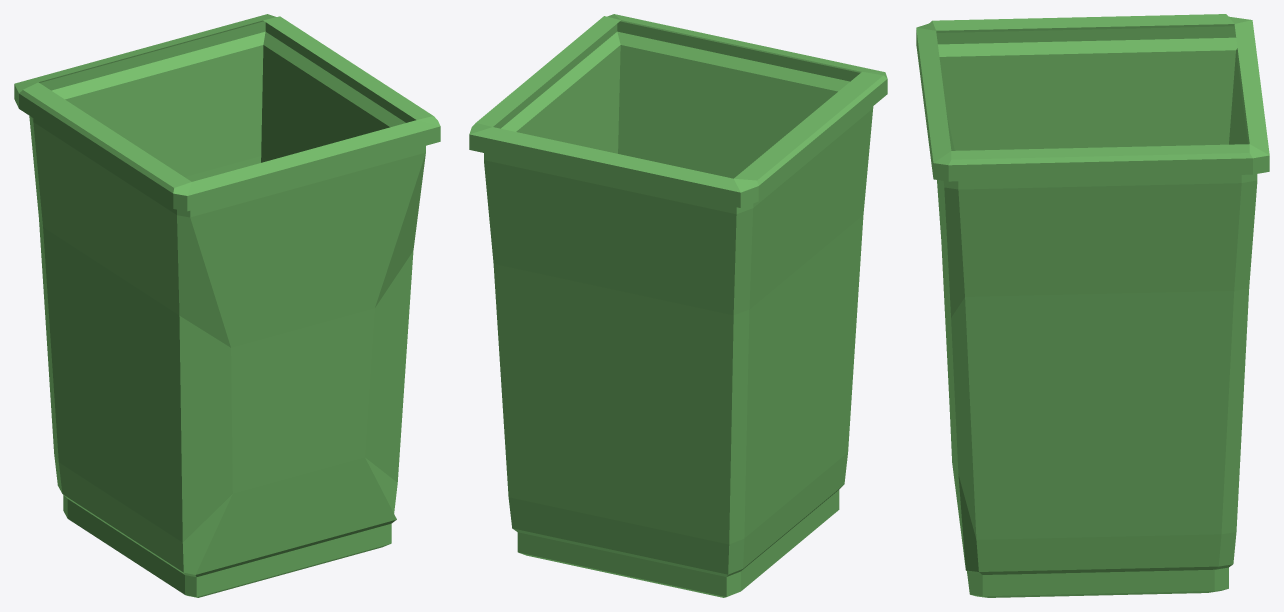
The model's file is trash_bin.gltf.
The picture shows the model from 3 angles, left to right: view 1: azimuth 30°, elevation 25°; view 2: azimuth 150°, elevation 25°; view 3: azimuth 270°, elevation 25°; orthographic projection. The views are drawn at different scales.
Visible parts, largest first — view 1: Cube; view 2: Cube; view 3: Cube.
Part boxes in pixels (left/top/right/bottom): Cube: left=14, top=14, right=440, bottom=597; Cube: left=469, top=14, right=887, bottom=597; Cube: left=916, top=14, right=1269, bottom=597.
Bounding box in the file's own units: 0.3275 × 0.4698 × 0.3293.
